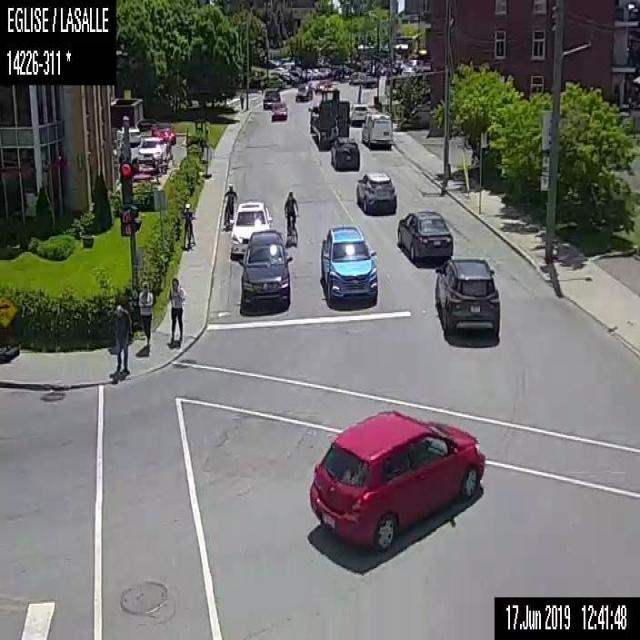cyclist: (281, 188, 299, 248), (220, 182, 238, 230), (179, 202, 195, 249)
pedestrian: (166, 278, 186, 346), (136, 280, 154, 353), (113, 303, 131, 372), (237, 92, 245, 109)
vehicle: (306, 408, 486, 549), (434, 254, 500, 337), (317, 222, 378, 302), (236, 226, 294, 310), (396, 208, 454, 268), (309, 86, 349, 150), (229, 200, 271, 256), (353, 169, 395, 212), (359, 112, 392, 148), (330, 135, 359, 171), (138, 134, 168, 166), (150, 120, 176, 146), (348, 101, 370, 126), (262, 87, 280, 109), (294, 82, 311, 102), (272, 102, 287, 120)
